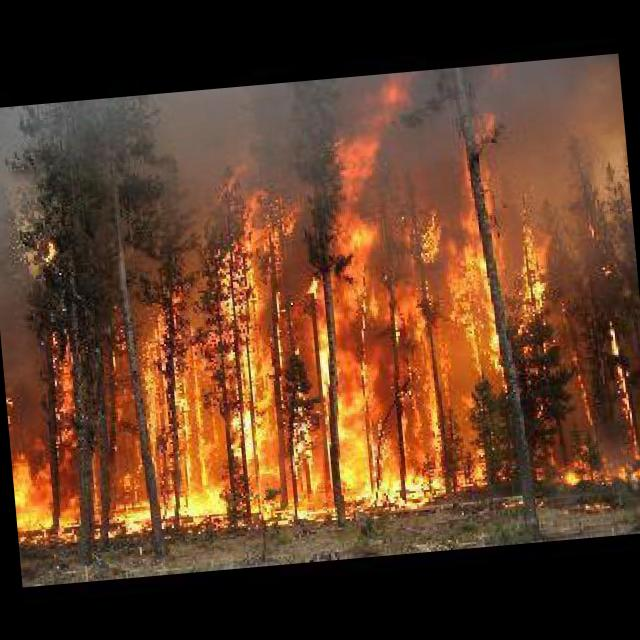Fire: (0, 67, 640, 540)
